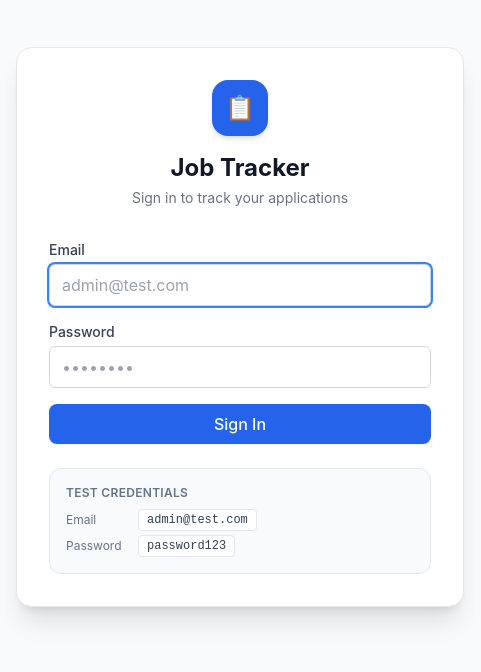
LoginPage › displays an error message on failed login
Type "wrong@example.com" into the field with placeholder "admin@test.com" at (240,285), box [49, 264, 431, 306]
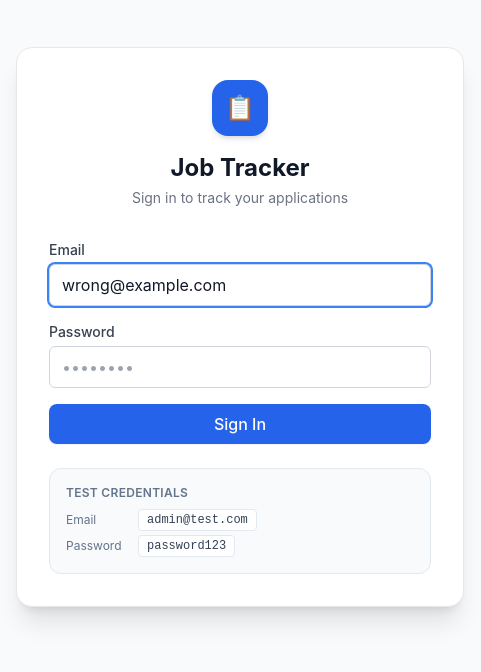
Type "wrongpass" into the password field with placeholder "••••••••" at (240,367), box [49, 346, 431, 388]
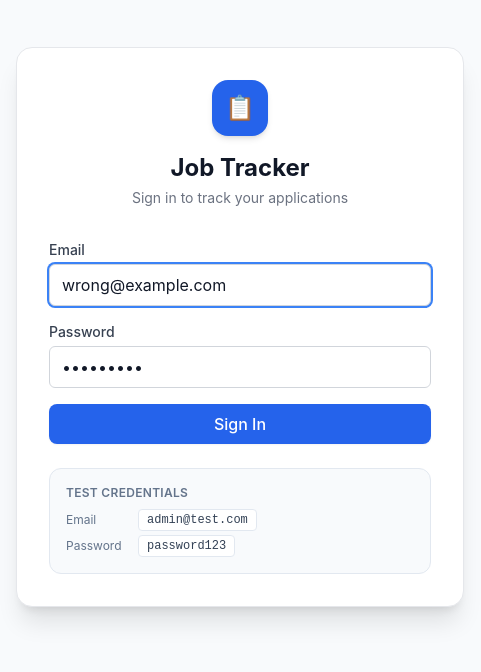
Click the button "Sign In" at (240,424), box [49, 404, 431, 444]
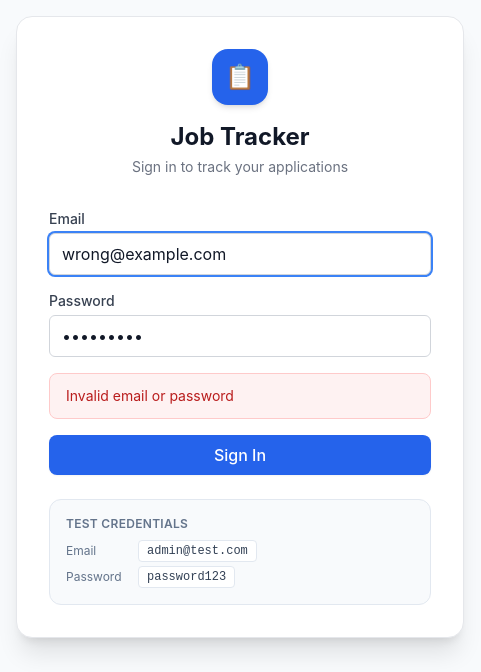
Expected: the text "Invalid email or password" is shown, [66, 387, 234, 404]
